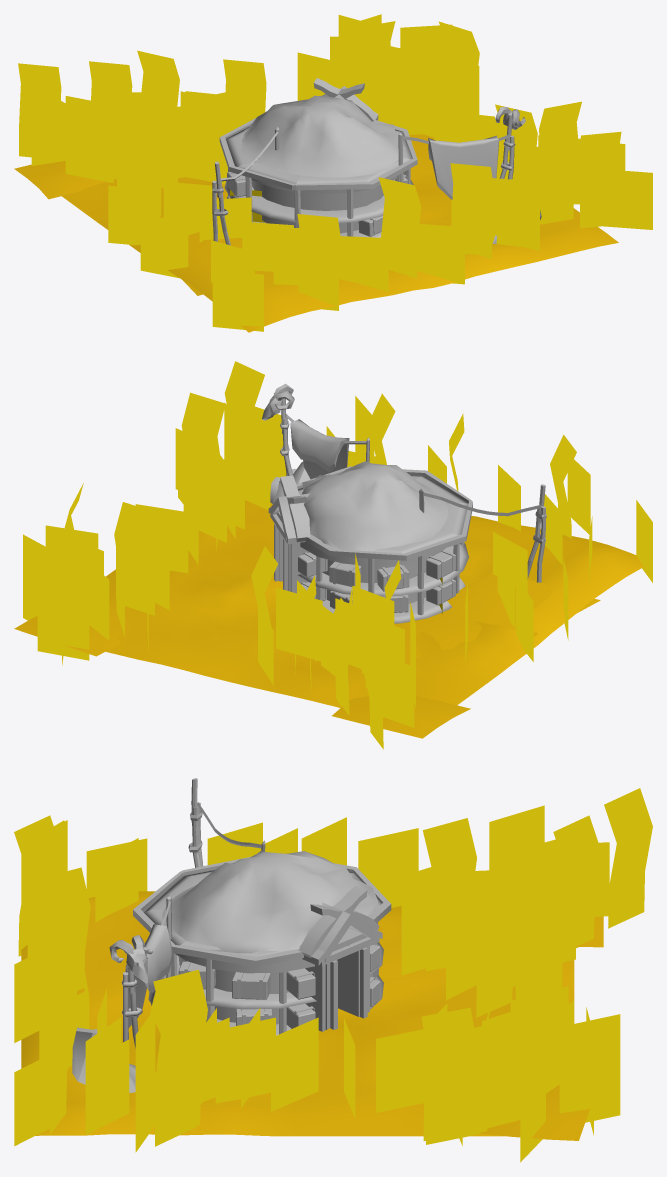
Rendered from smSheephut.fbx.
3 views of the same model, one above another, from view 1: azimuth 30°, elevation 25°; view 2: azimuth 150°, elevation 25°; view 3: azimuth 270°, elevation 25° (orthographic). The views are drawn at different scales.
Parts seen in each view (by area): view 1: House_and_field; view 2: House_and_field; view 3: House_and_field.
Boxes of the visible parts, left/top/right/bottom form: House_and_field: left=14, top=14, right=652, bottom=332; House_and_field: left=14, top=361, right=652, bottom=749; House_and_field: left=14, top=778, right=652, bottom=1162.
Size of the model in its own units: 1.02 by 0.3075 by 1.04.
